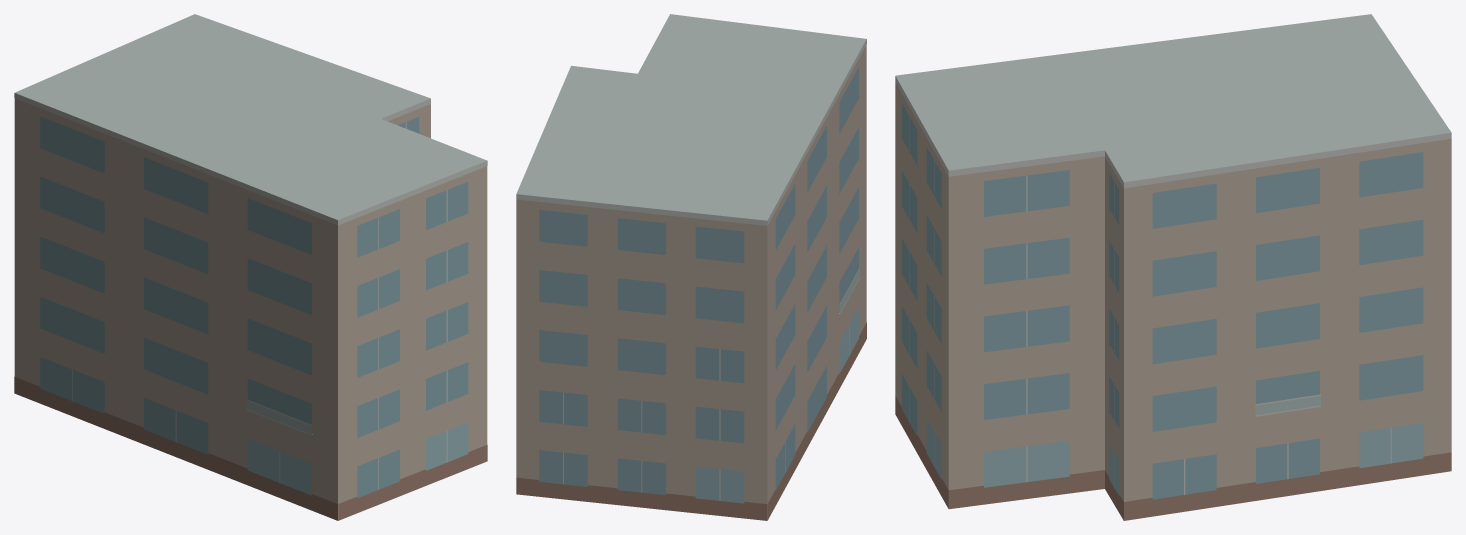
File: survey-upis-32490144.glb
3 views of the same model, side by side, from view 1: azimuth 30°, elevation 25°; view 2: azimuth 150°, elevation 25°; view 3: azimuth 270°, elevation 25° (orthographic). The views are drawn at different scales.
Visible parts, largest first — view 1: survey-upis-32490144.tmp; view 2: survey-upis-32490144.tmp; view 3: survey-upis-32490144.tmp.
Boxes of the visible parts, box(x1,y1,x2,y2) form: survey-upis-32490144.tmp: box(14, 14, 487, 520); survey-upis-32490144.tmp: box(516, 14, 866, 520); survey-upis-32490144.tmp: box(895, 14, 1451, 520).
Bounding box in the file's own units: 14.68 × 13.75 × 20.49.
